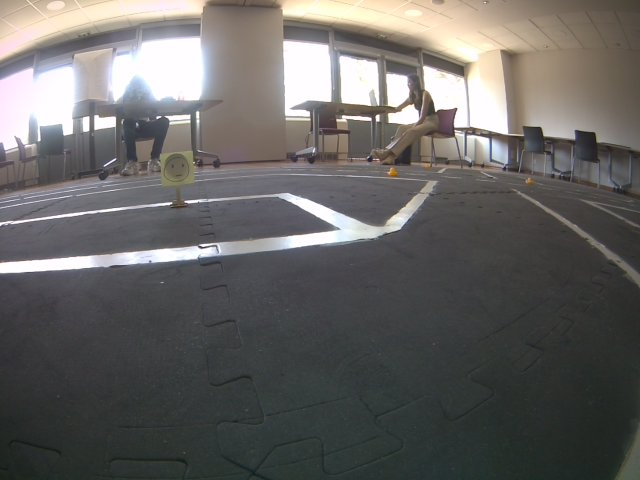Smiley: (158, 150, 196, 189)
